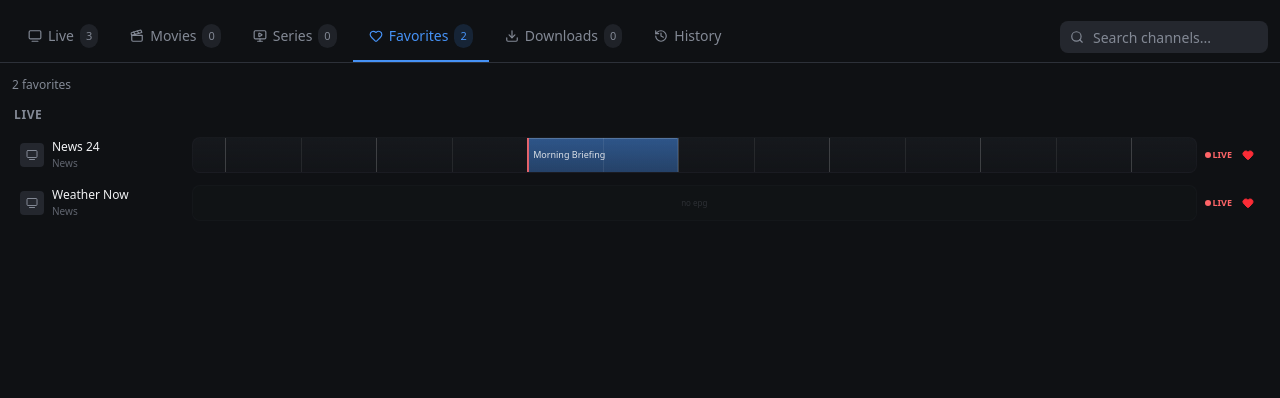
Test: ChannelList favorites tab › keeps the favorites' programs and waits for the rest when Live opens after Favorites
This screenshot has width=1280, height=398.
Click the button "Live 3" at (63, 37), box [12, 12, 114, 62]
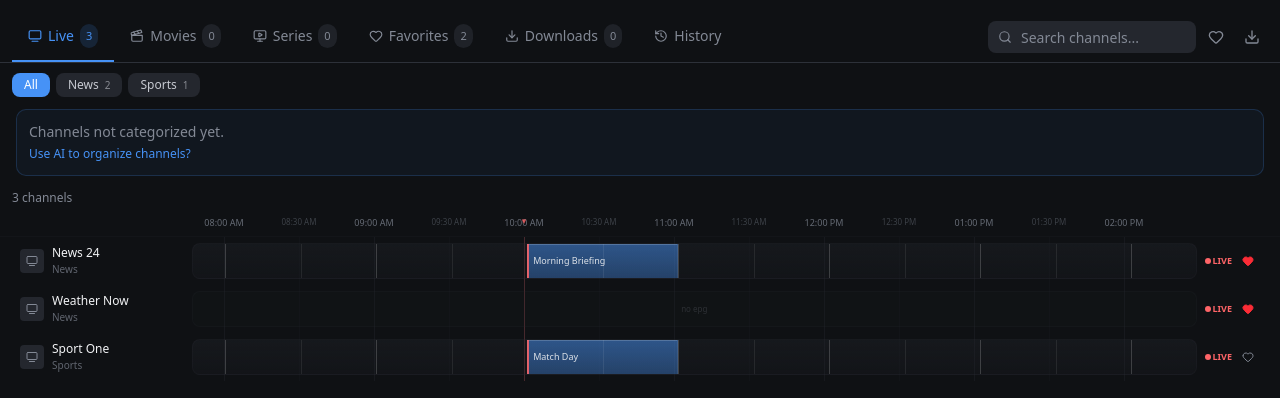
Expected: the element titled "Morning Briefing" is shown, [527, 244, 678, 278]
Now the element titled "Match Day" is shown, box [527, 340, 678, 374]
